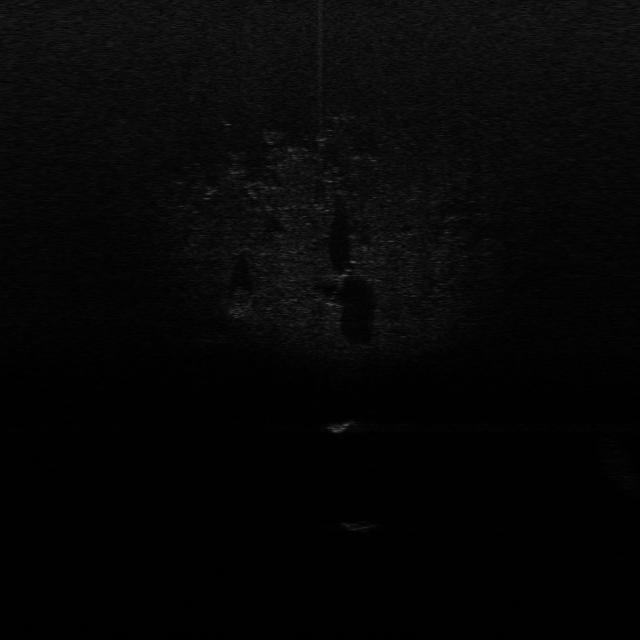cube: (338, 517, 379, 533)
square cage: (326, 417, 358, 435)
